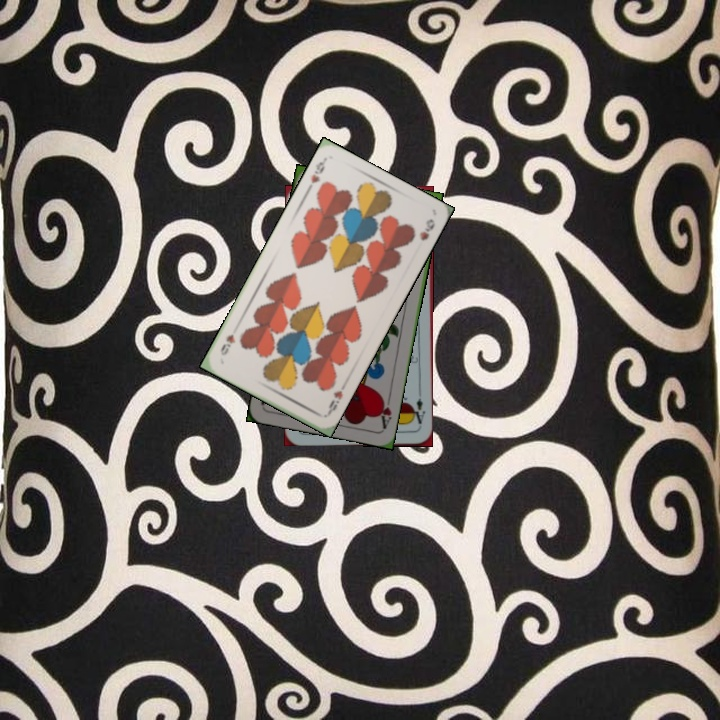EA: (408, 394, 427, 430)
H9: (323, 386, 345, 418), (307, 155, 329, 186)
HA: (374, 390, 394, 431)
